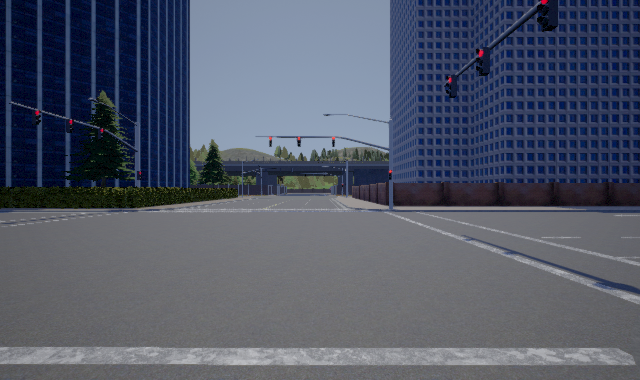traffic_light: (537, 1, 558, 32), (476, 47, 490, 76), (446, 75, 457, 98), (32, 110, 41, 125), (66, 119, 74, 133), (98, 128, 105, 140), (388, 170, 392, 180), (297, 137, 301, 147), (332, 137, 335, 147), (269, 137, 272, 147)
